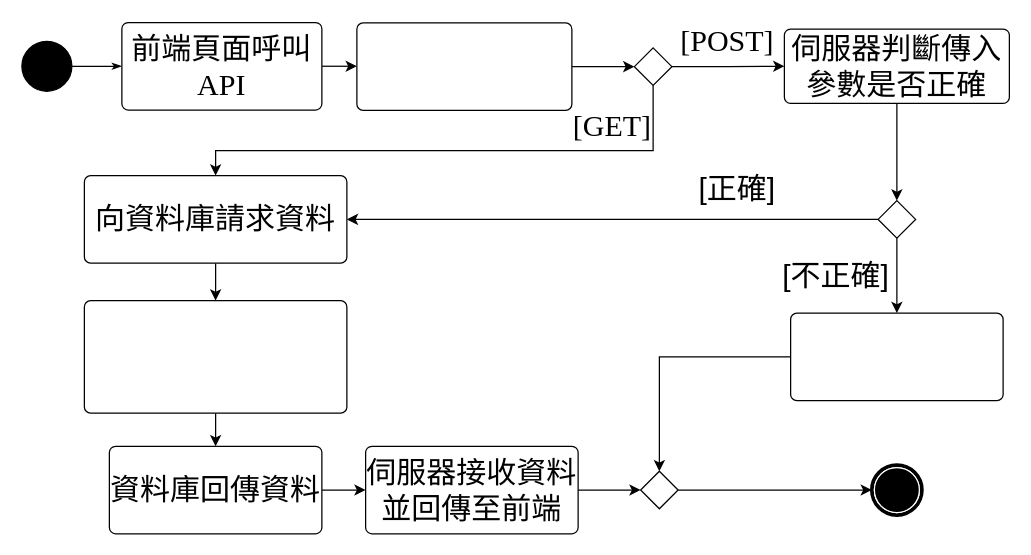
Image size: 1031x555. Some labels were removed from this diagram. The centre of each missing label's shape, as x and y in pixels:
伺服器判斷 呼叫方法及路由: point (464, 66)
回傳錯誤訊息 至前端: point (896, 356)
資料庫進行 查詢、新增、 修改、刪除資料: point (215, 356)
